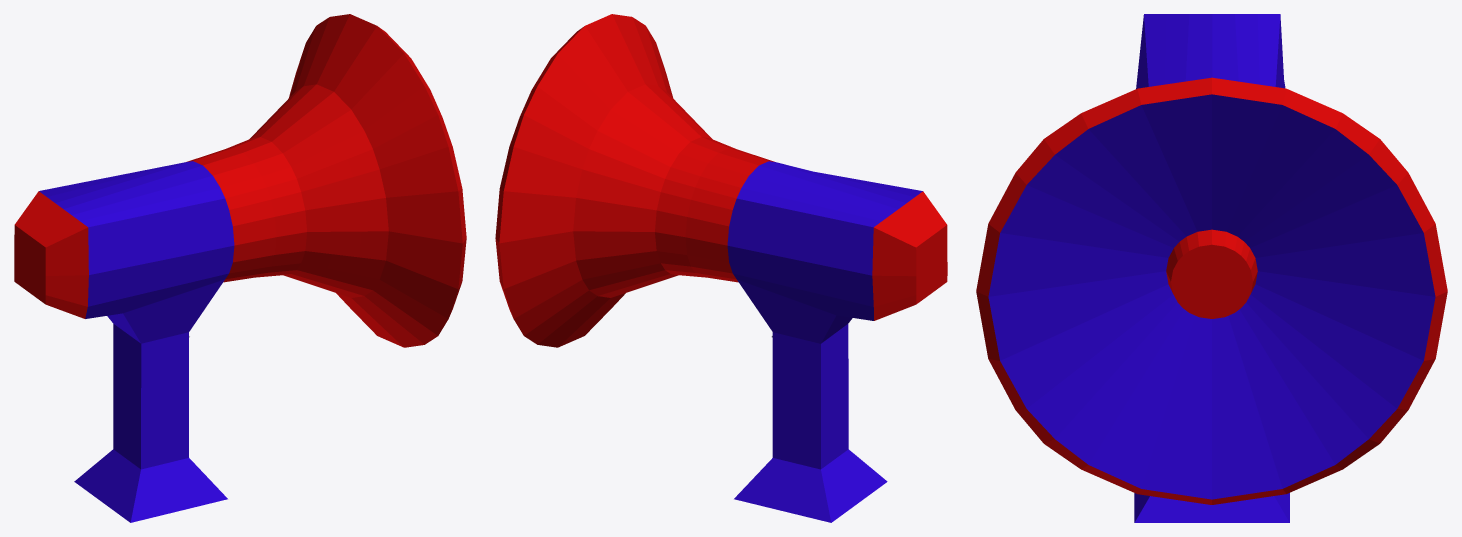
The model's file is megaphoneLowpoly.fbx.
3 renders of one model, left to right at view 1: azimuth 30°, elevation 25°; view 2: azimuth 150°, elevation 25°; view 3: azimuth 270°, elevation 25°, orthographic. The views are drawn at different scales.
Visible parts, largest first — view 1: cone, handle; view 2: cone, handle; view 3: cone, handle.
Part boxes in pixels (x1,y1,x2,y2): cone: [187, 14, 466, 347]; handle: [14, 161, 234, 522]; cone: [495, 14, 774, 347]; handle: [727, 161, 947, 522]; cone: [976, 77, 1447, 504]; handle: [1134, 14, 1289, 522].
Bounding box in the file's own units: 728 × 801 × 607.
